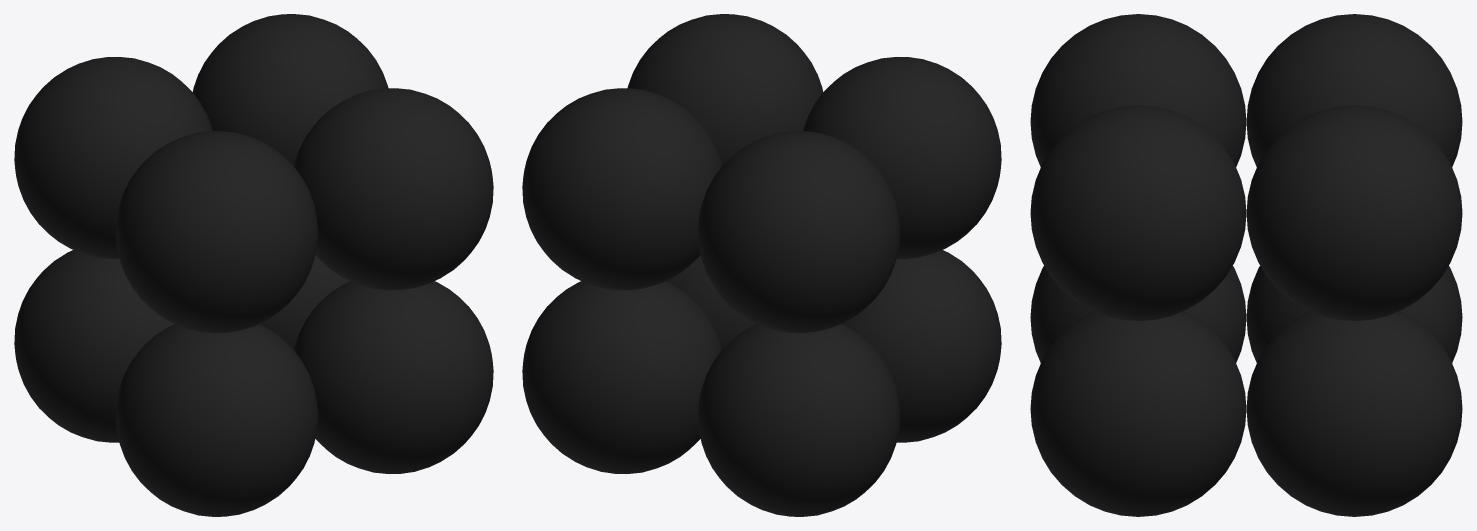
File: solid_state_qn_002.glb
3 renders of one model, left to right at view 1: azimuth 30°, elevation 25°; view 2: azimuth 150°, elevation 25°; view 3: azimuth 270°, elevation 25°, orthographic. The views are drawn at different scales.
Parts seen in each view (by area): view 1: Icosphere.039, Icosphere.035, Icosphere.038, Icosphere.034, Icosphere.040, Icosphere.036, Icosphere.041, Icosphere.037; view 2: Icosphere.040, Icosphere.036, Icosphere.041, Icosphere.037, Icosphere.039, Icosphere.035, Icosphere.038, Icosphere.034; view 3: Icosphere.038, Icosphere.041, Icosphere.034, Icosphere.037, Icosphere.039, Icosphere.040, Icosphere.035, Icosphere.036.
Boxes of the visible parts, left/top/right/bottom form: Icosphere.039: left=115, top=131, right=317, bottom=333; Icosphere.035: left=115, top=324, right=317, bottom=516; Icosphere.038: left=294, top=88, right=493, bottom=290; Icosphere.034: left=294, top=281, right=493, bottom=473; Icosphere.040: left=14, top=57, right=212, bottom=258; Icosphere.036: left=14, top=250, right=173, bottom=442; Icosphere.041: left=192, top=14, right=388, bottom=165; Icosphere.037: left=259, top=255, right=349, bottom=349; Icosphere.040: left=698, top=131, right=900, bottom=333; Icosphere.036: left=698, top=324, right=900, bottom=516; Icosphere.041: left=522, top=88, right=721, bottom=290; Icosphere.037: left=522, top=281, right=721, bottom=473; Icosphere.039: left=803, top=57, right=1001, bottom=258; Icosphere.035: left=842, top=250, right=1001, bottom=442; Icosphere.038: left=627, top=14, right=823, bottom=165; Icosphere.034: left=666, top=255, right=756, bottom=349; Icosphere.038: left=1030, top=105, right=1246, bottom=321; Icosphere.041: left=1246, top=105, right=1462, bottom=321; Icosphere.034: left=1030, top=311, right=1246, bottom=516; Icosphere.037: left=1246, top=311, right=1462, bottom=516; Icosphere.039: left=1030, top=14, right=1246, bottom=167; Icosphere.040: left=1246, top=14, right=1462, bottom=167; Icosphere.035: left=1030, top=266, right=1246, bottom=362; Icosphere.036: left=1246, top=266, right=1462, bottom=362.
Size of the model in its own units: 4 by 4 by 4.
Materials: 1 (1 with a texture image).
